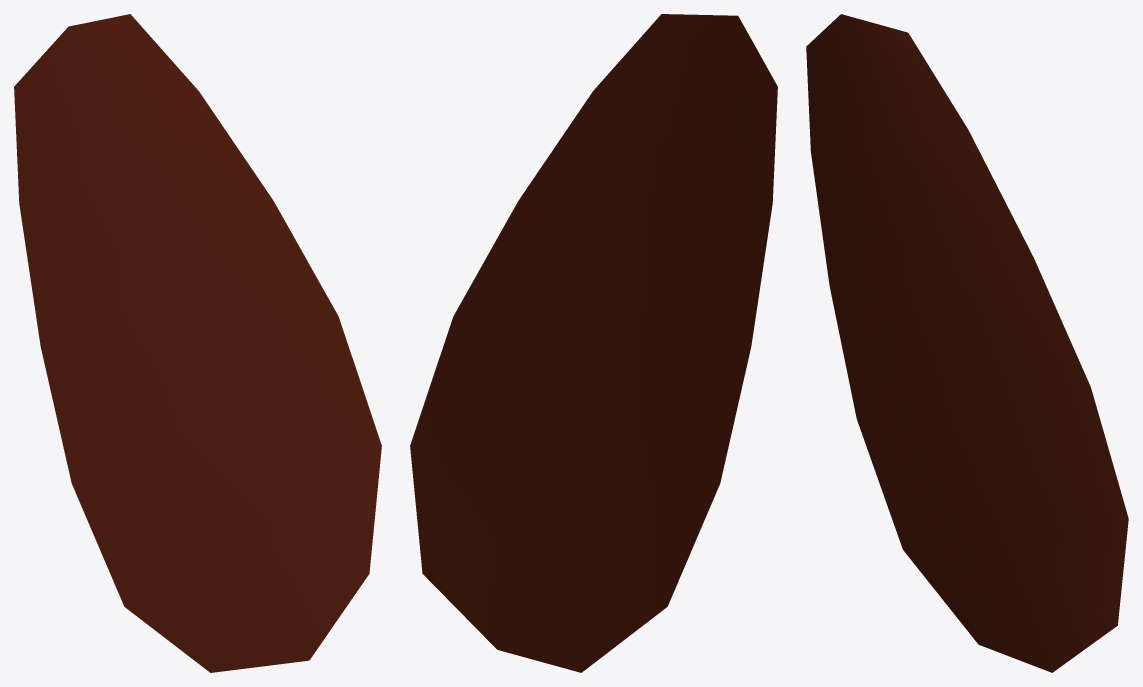
The model's file is finch_feather_flight_tertiary_020.obj.
The picture shows the model from 3 angles, left to right: view 1: azimuth 30°, elevation 25°; view 2: azimuth 150°, elevation 25°; view 3: azimuth 330°, elevation 25°; orthographic projection. The views are drawn at different scales.
Parts seen in each view (by area): view 1: feather_flight_tertiary_020; view 2: feather_flight_tertiary_020; view 3: feather_flight_tertiary_020.
Part boxes in pixels (<box>): feather_flight_tertiary_020: <box>14,14,381,672</box>; feather_flight_tertiary_020: <box>410,14,777,672</box>; feather_flight_tertiary_020: <box>806,14,1128,672</box>.
Size of the model in its own units: 0.00437 by 0.00787 by 0.000152.
